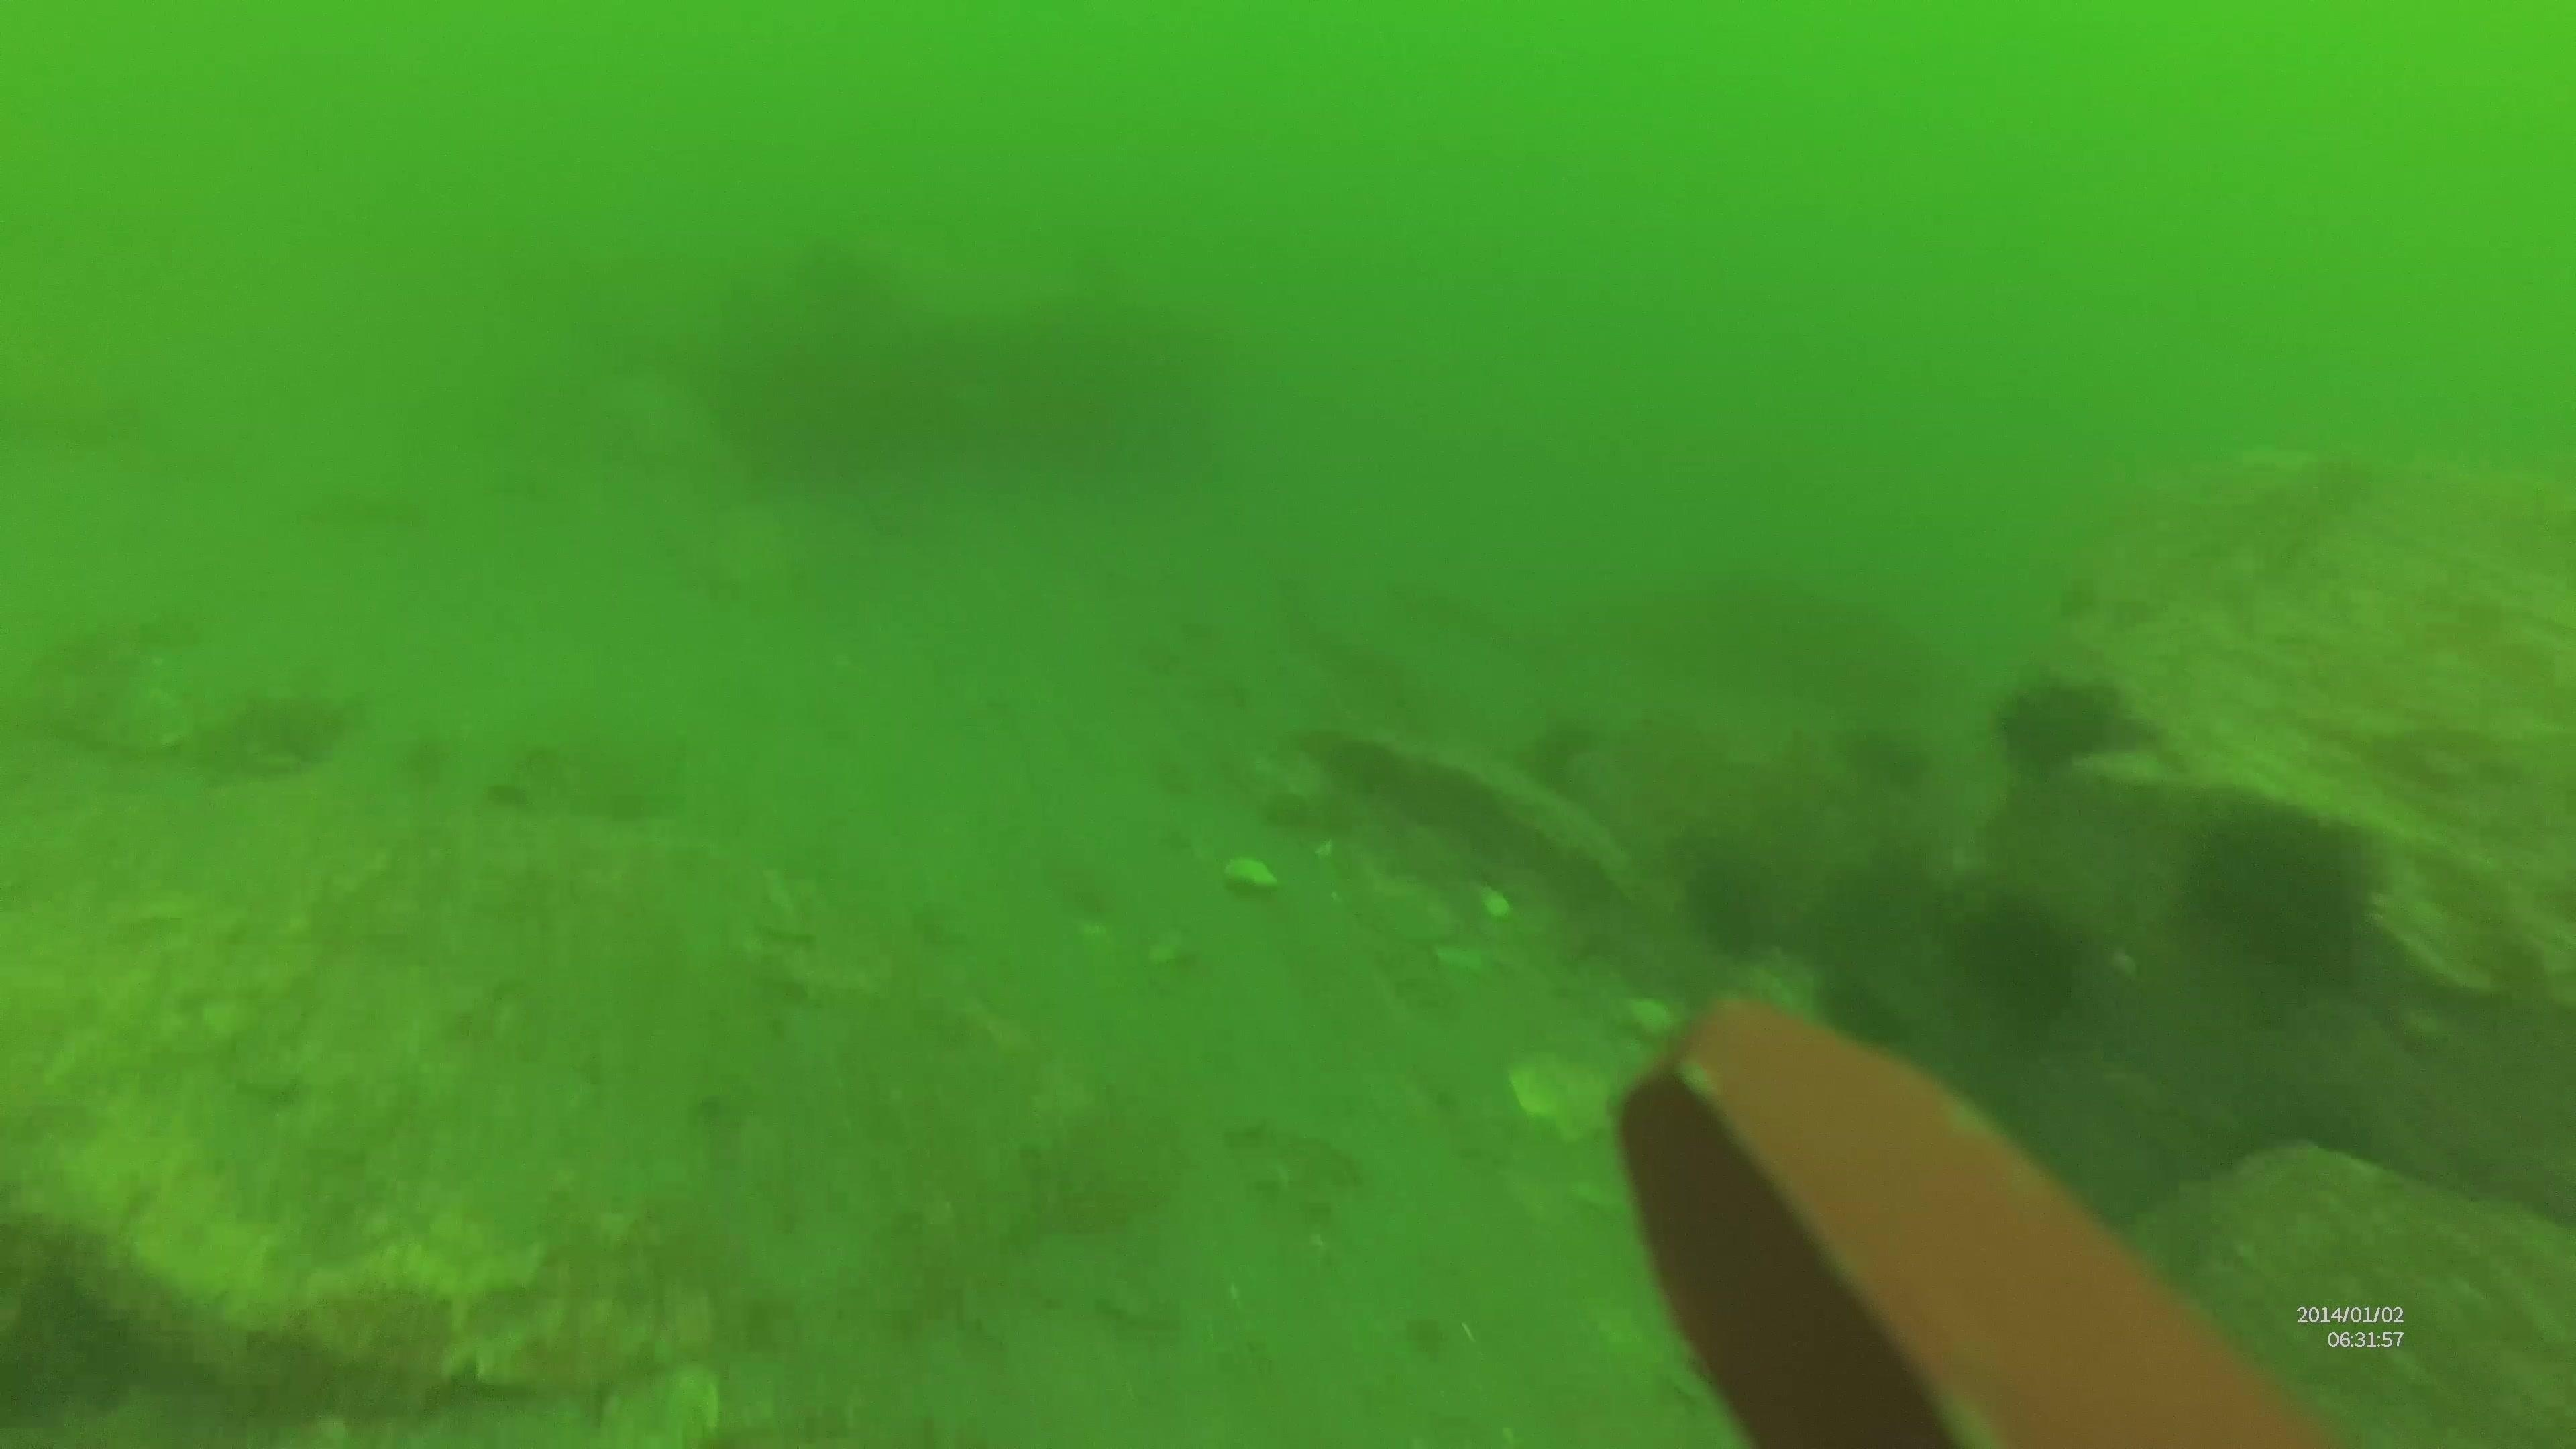echinus: (2173, 800, 2381, 985), (1939, 888, 2091, 1037), (1990, 667, 2134, 780)
